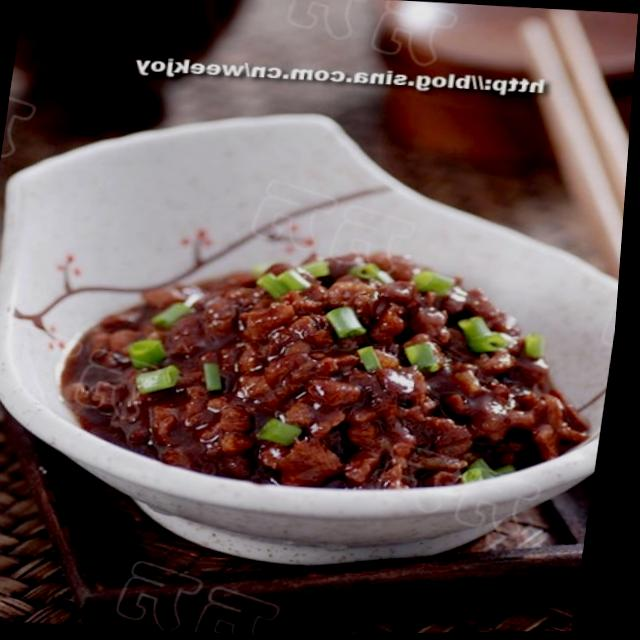面条主食: (0, 99, 634, 599)
